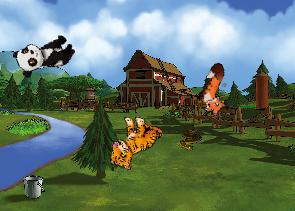fox: (190, 60, 244, 122)
panda: (11, 29, 78, 80)
tiger: (106, 111, 164, 175)
